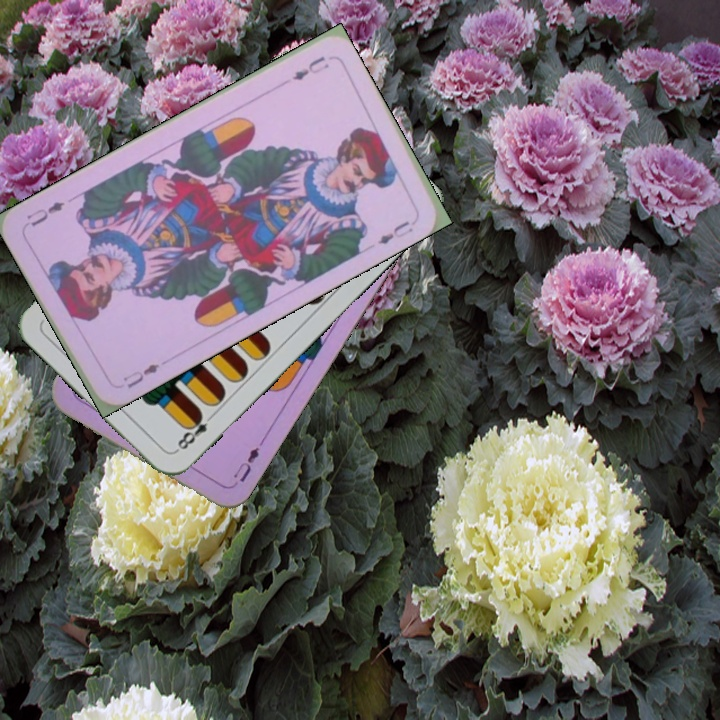E8: (171, 408, 218, 455)
EU: (227, 442, 262, 490), (118, 359, 162, 391), (287, 52, 332, 83)
